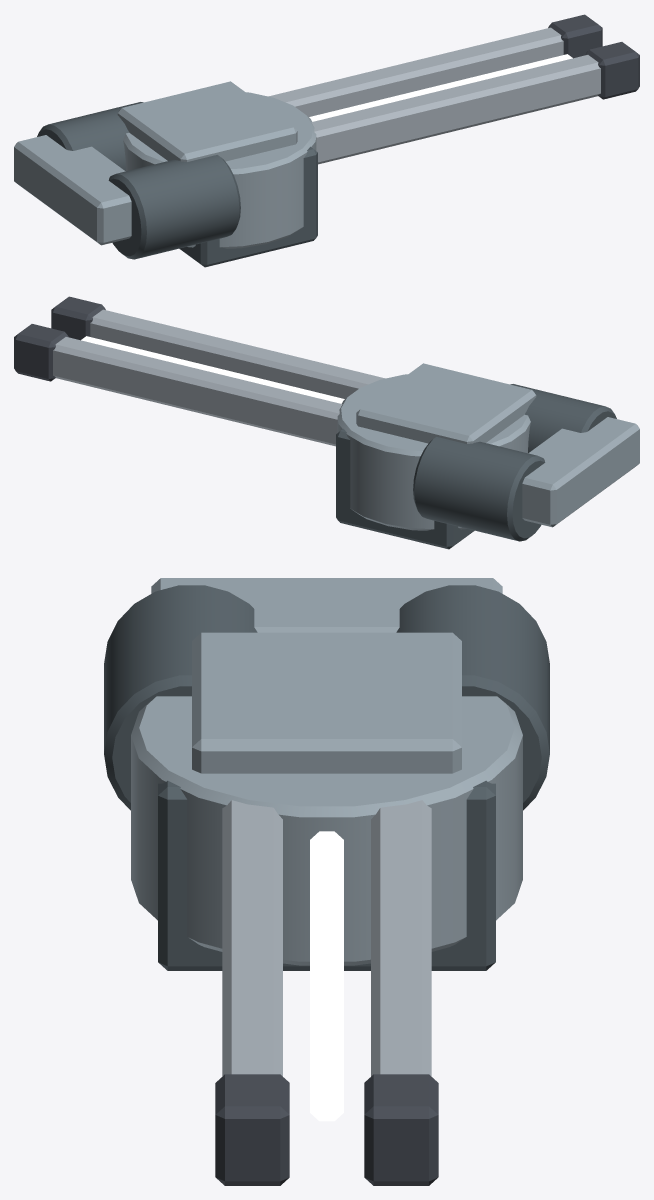
Rendered from rail_turret_l1.glb.
3 views of the same model, one above another, from view 1: azimuth 30°, elevation 25°; view 2: azimuth 150°, elevation 25°; view 3: azimuth 270°, elevation 25° (orthographic). The views are drawn at different scales.
Visible parts, largest first — view 1: Cube.001, Cylinder.001, Cube.006, Cylinder, Cube.003, Cube.007, Cube, Cylinder.003, Cube.002, Cube.005, Cube.004; view 2: Cube.003, Cylinder.003, Cube.006, Cylinder, Cube.001, Cube.007, Cube, Cylinder.001, Cube.004, Cube.005, Cube.002; view 3: Cylinder, Cube.006, Cube.001, Cube.003, Cylinder.001, Cylinder.003, Cube, Cube.007, Cube.005, Cube.002, Cube.004.
Boxes of the visible parts, bbox=[...] form: Cube.001: bbox=[311, 55, 600, 164]; Cylinder.001: bbox=[108, 155, 240, 259]; Cube.006: bbox=[117, 81, 297, 161]; Cylinder: bbox=[123, 92, 316, 248]; Cube.003: bbox=[268, 27, 563, 116]; Cube.007: bbox=[14, 135, 131, 245]; Cube: bbox=[179, 146, 317, 267]; Cylinder.003: bbox=[37, 102, 143, 171]; Cube.002: bbox=[585, 42, 639, 99]; Cube.005: bbox=[309, 54, 572, 121]; Cube.004: bbox=[548, 14, 602, 58]; Cube.003: bbox=[53, 337, 342, 446]; Cylinder.003: bbox=[413, 437, 545, 541]; Cube.006: bbox=[356, 363, 536, 443]; Cylinder: bbox=[337, 374, 530, 530]; Cube.001: bbox=[90, 309, 385, 398]; Cube.007: bbox=[522, 417, 639, 527]; Cube: bbox=[336, 428, 474, 549]; Cylinder.001: bbox=[510, 384, 616, 453]; Cube.004: bbox=[14, 324, 68, 381]; Cube.005: bbox=[81, 336, 344, 403]; Cube.002: bbox=[51, 296, 105, 340]; Cylinder: bbox=[131, 696, 522, 965]; Cube.006: bbox=[192, 632, 461, 773]; Cube.001: bbox=[222, 800, 282, 1076]; Cube.003: bbox=[371, 800, 431, 1076]; Cylinder.001: bbox=[104, 585, 257, 810]; Cylinder.003: bbox=[396, 585, 549, 810]; Cube: bbox=[158, 780, 495, 970]; Cube.007: bbox=[151, 578, 502, 632]; Cube.005: bbox=[310, 831, 343, 1121]; Cube.002: bbox=[215, 1074, 289, 1185]; Cube.004: bbox=[364, 1074, 438, 1185].
Bounding box in the file's own units: 1.91 × 0.36 × 0.66.
